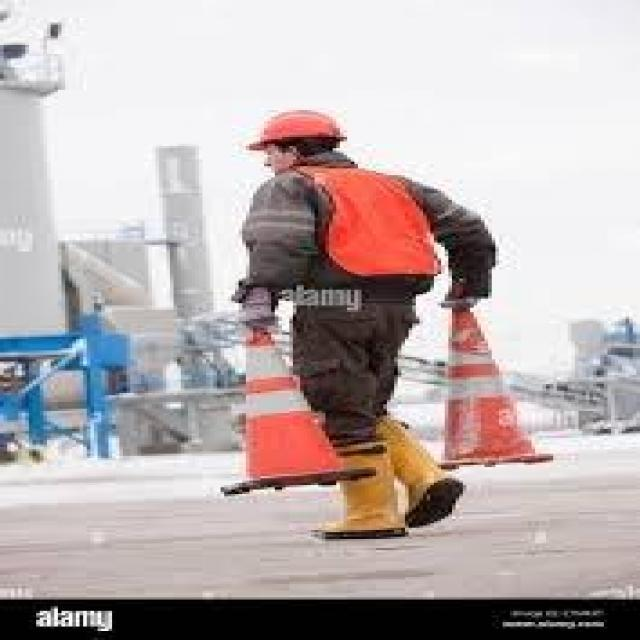Cone: (216, 326, 374, 500), (423, 298, 554, 468)
